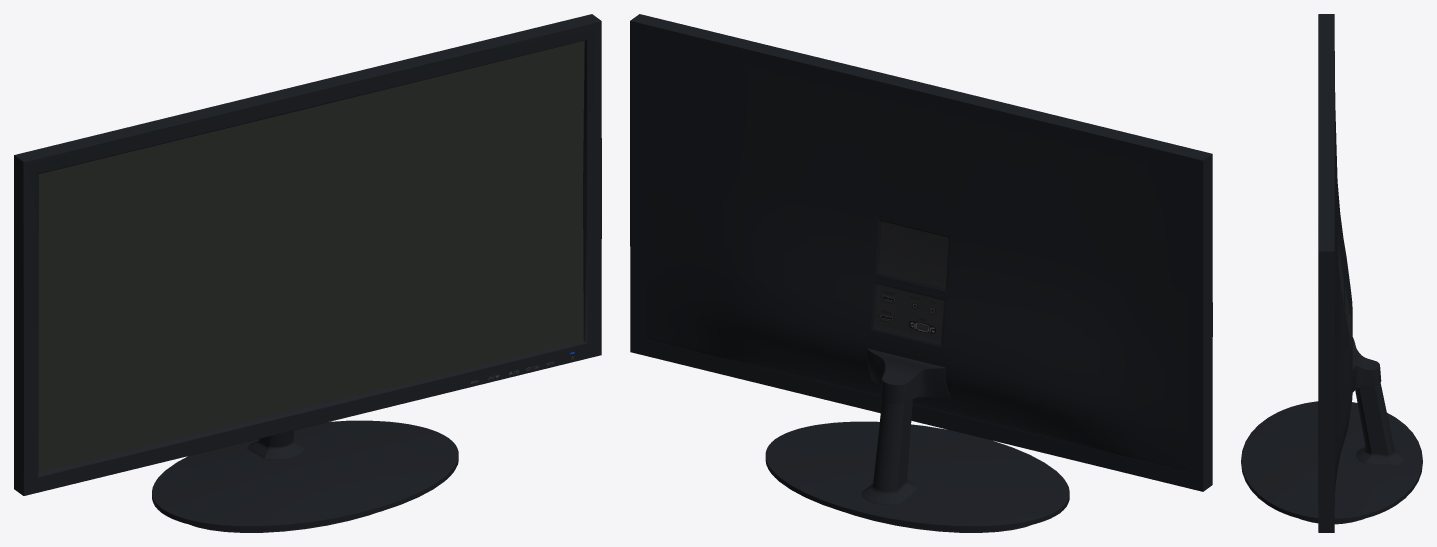
The model's file is monitor.fbx.
3 renders of one model, left to right at view 1: azimuth 30°, elevation 25°; view 2: azimuth 150°, elevation 25°; view 3: azimuth 270°, elevation 25°, orthographic. The views are drawn at different scales.
Visible parts, largest first — view 1: node_id61; view 2: node_id61; view 3: node_id61.
Part boxes in pixels (x1,y1,x2,y2): node_id61: (14, 14, 601, 532); node_id61: (630, 14, 1212, 532); node_id61: (1241, 14, 1422, 532).
Size of the model in its own units: 0.512 by 0.3416 by 0.1655.
1 material, 1 textured.
